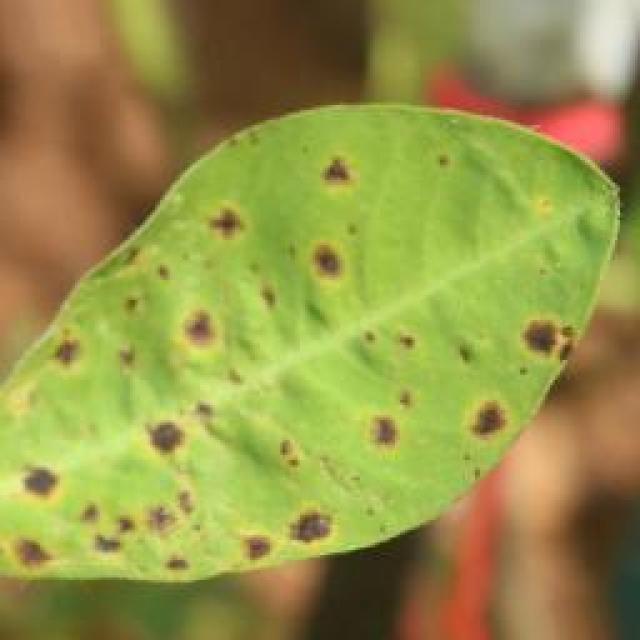Yellowish: (12, 137, 601, 575)
